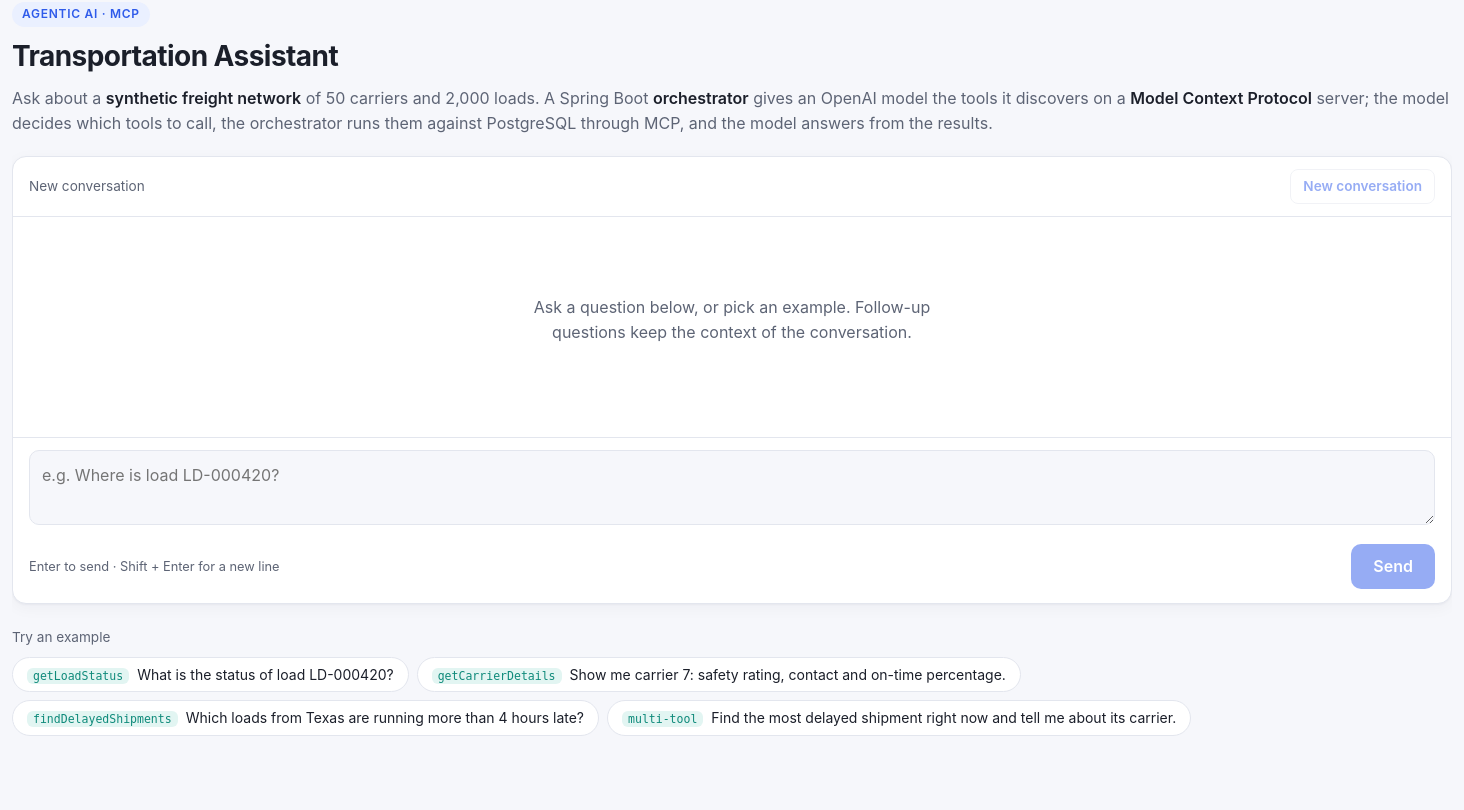
Test: TransportationAssistant › explains {"name":"HttpError","status":503,"detail":"MCP server unavailable"} and lets the user retry
Type "Where is load 420?" into the text box named "message the transportation assistant" at (732, 487), box [29, 450, 1435, 525]
Then press Enter
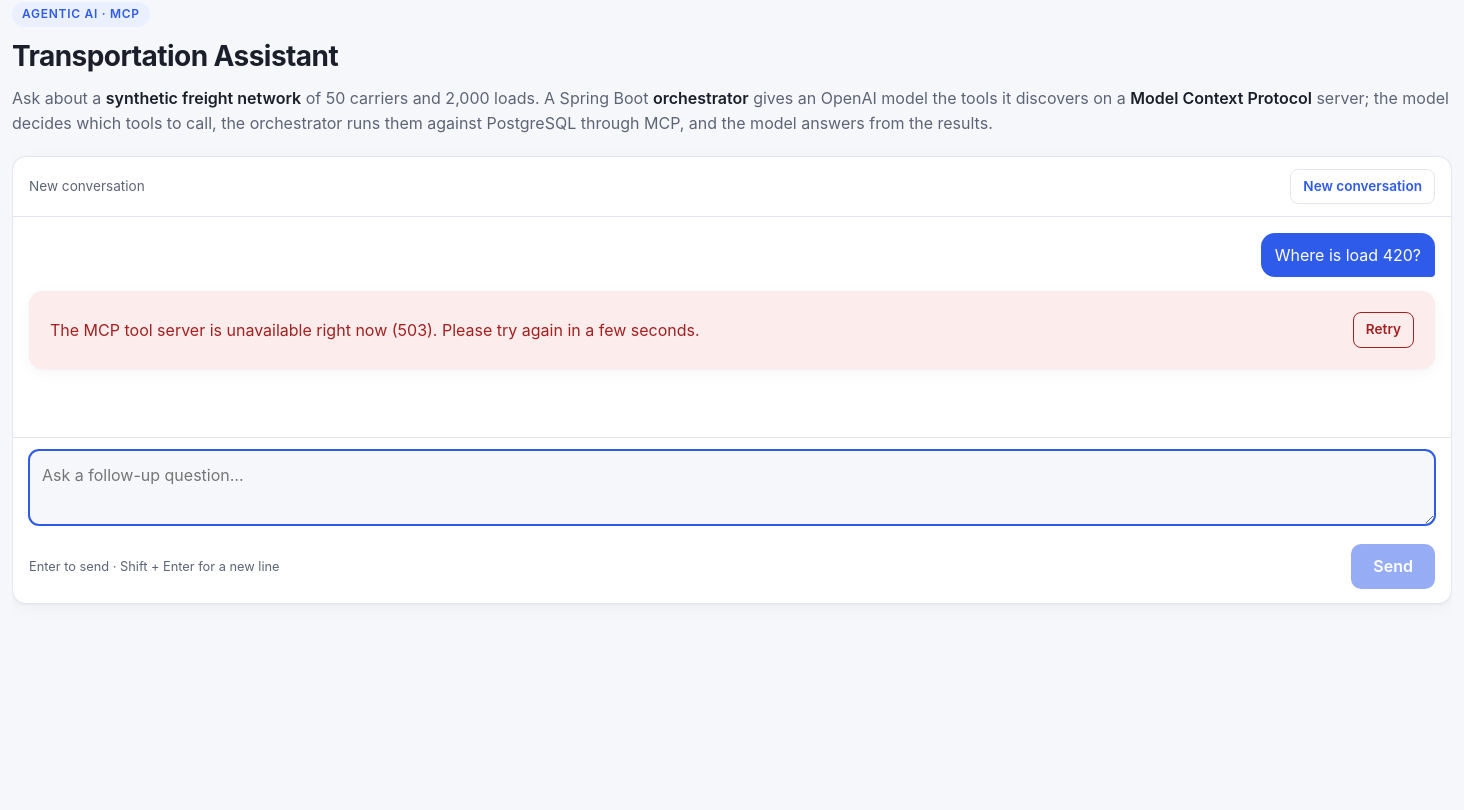
Expected: the button "Send" is disabled, [1351, 544, 1435, 589]
Result: the message shows "MCP tool server is unavailable" at [50, 320, 700, 340]
Click the button "Retry" at (1383, 330), box [1353, 312, 1414, 348]
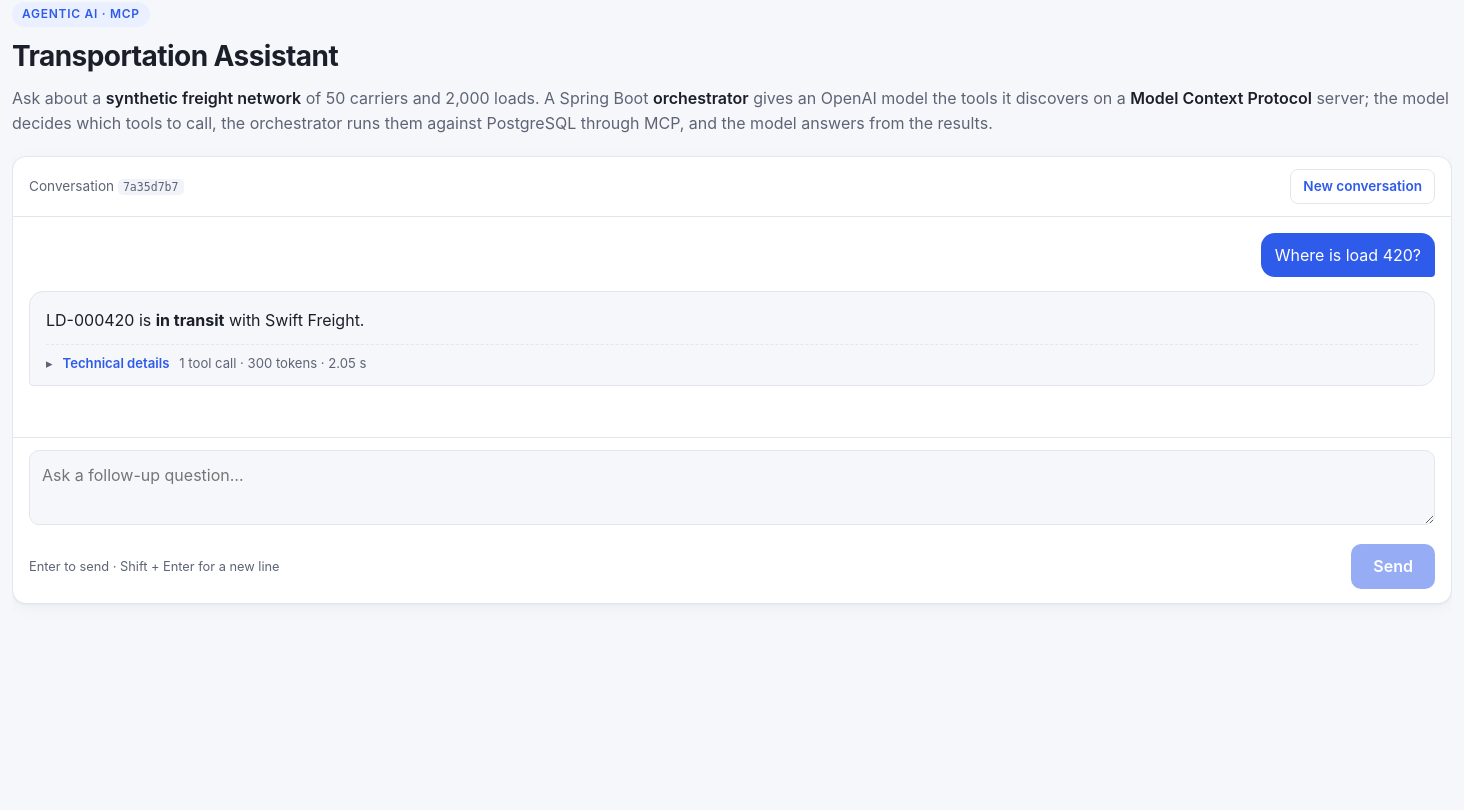
Result: the text "Where is load 420?" is shown once at [1261, 233, 1435, 277]
Result: the text "in transit" is shown at [156, 310, 224, 330]
Result: the message is gone
